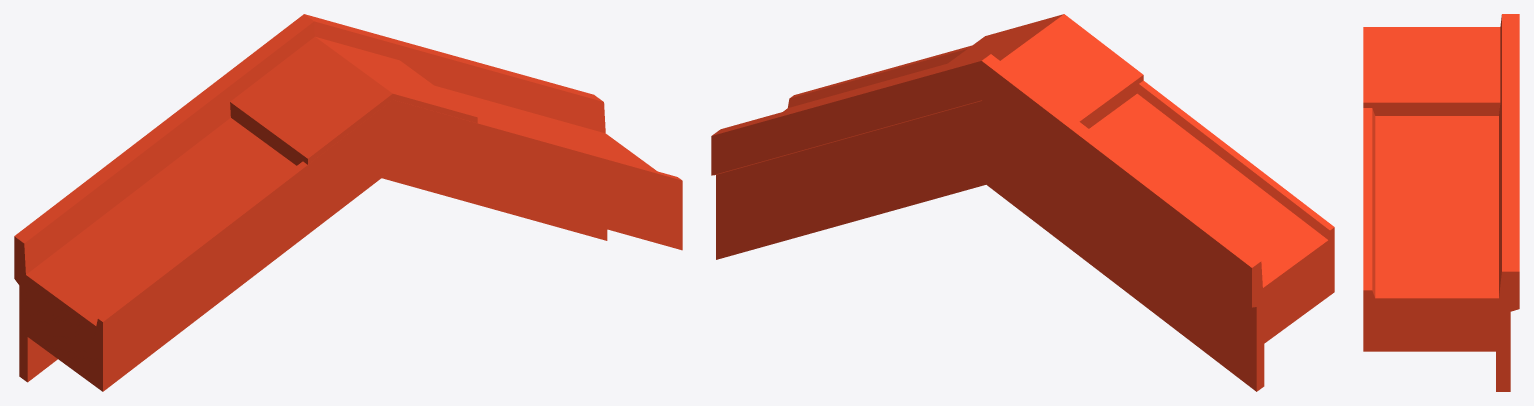
Rendered from roof-metal-moderate-1m-front-center.fbx.
3 renders of one model, left to right at view 1: azimuth 30°, elevation 25°; view 2: azimuth 150°, elevation 25°; view 3: azimuth 270°, elevation 25°, orthographic. The views are drawn at different scales.
Visible parts, largest first — view 1: roof-metal-moderate-1m-front-center; view 2: roof-metal-moderate-1m-front-center; view 3: roof-metal-moderate-1m-front-center.
Part boxes in pixels (left/top/right/bottom): roof-metal-moderate-1m-front-center: left=14, top=14, right=682, bottom=391; roof-metal-moderate-1m-front-center: left=711, top=14, right=1334, bottom=391; roof-metal-moderate-1m-front-center: left=1363, top=14, right=1519, bottom=391.
Size of the model in its own units: 2 by 0.9494 by 0.53.
